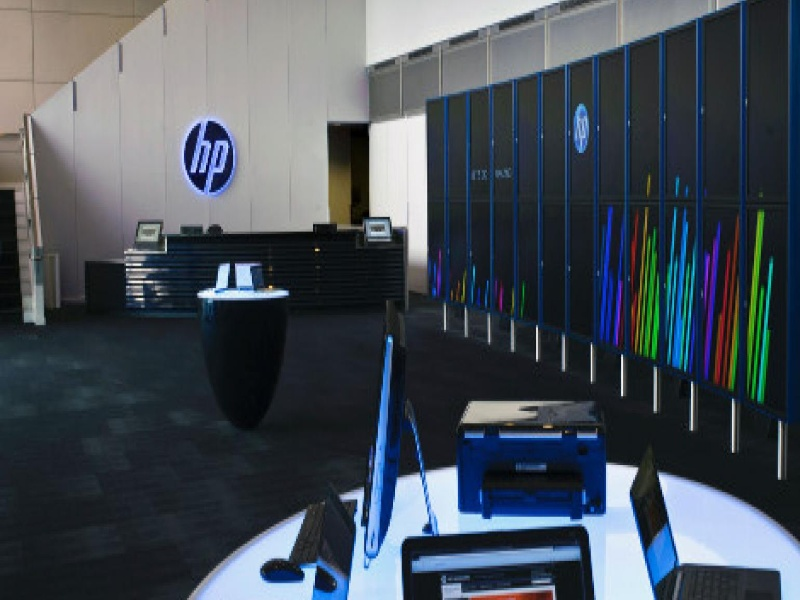hp: (190, 112, 236, 192), (570, 105, 594, 153)
